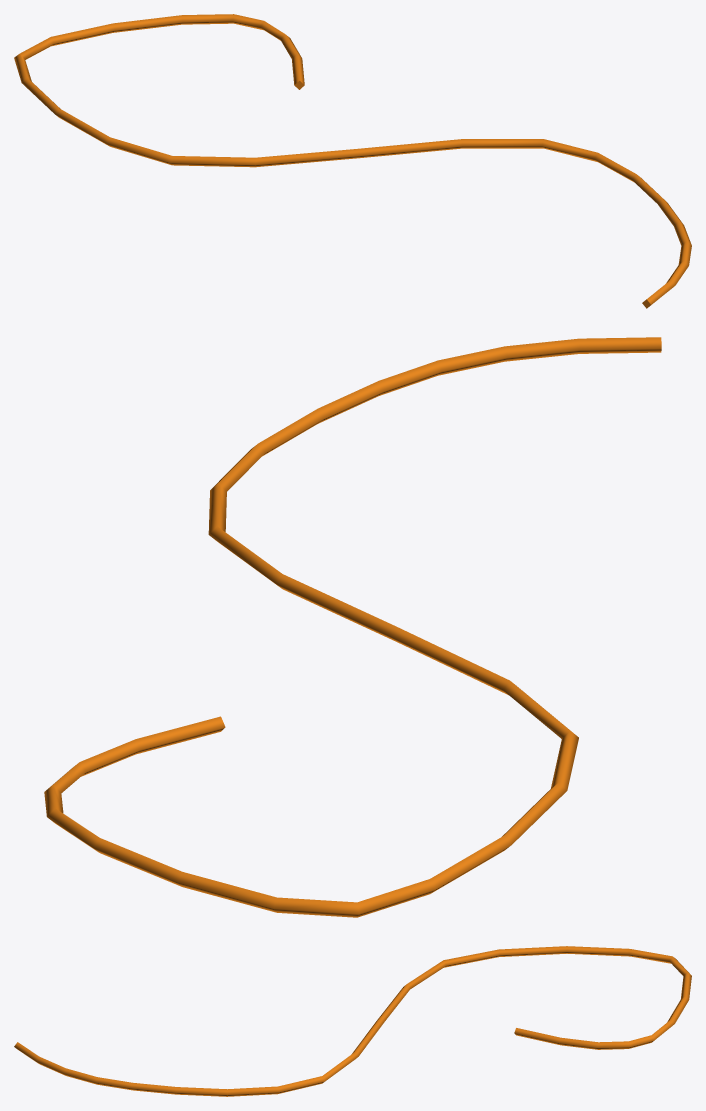
File: cable floor 2.FBX
3 views of the same model, one above another, from view 1: azimuth 30°, elevation 25°; view 2: azimuth 150°, elevation 25°; view 3: azimuth 270°, elevation 25° (orthographic). The views are drawn at different scales.
Parts seen in each view (by area): view 1: Line030; view 2: Line030; view 3: Line030.
Boxes of the visible parts, x1=… form: Line030: x1=14, y1=14, x2=691, y2=308; Line030: x1=44, y1=337, x2=661, y2=917; Line030: x1=14, y1=946, x2=691, y2=1096.
Size of the model in its own units: 1.02 by 0.025 by 2.
